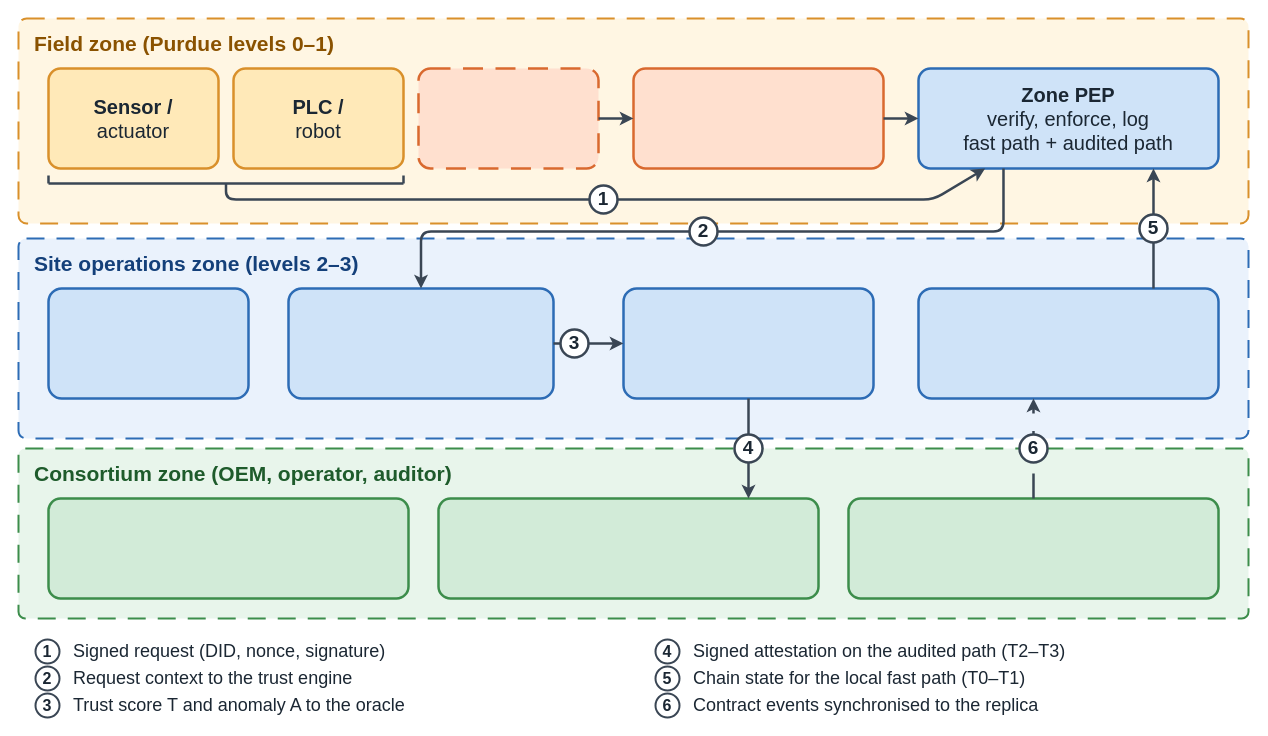
This 1268x736 diagram has some shape labels left out. Here are the shapes that lost their labels. From the top down, the centre of each, then its label:
the point at 508,118: Legacy device (no keys)
the point at 758,118: Protocol gateway identity proxy for legacy devices
the point at 148,343: HMI / engineering workstation
the point at 420,343: Trust engine (PDP) signals P, A, N, R; per-tier policy
the point at 748,343: Trust oracle signs DID, resource, T, A, nonce
the point at 1068,343: Local replica of chain state + decision log
the point at 228,548: IdentityRegistry status FSM, key blacklist, batch revoke / quarantine
the point at 628,548: ZeroTrustAccess tier policy, anomaly gate, strict mode, root anchoring
the point at 1033,548: RevocationGovernance quorum q = ⌊N/2⌋+1; vendor, operator, auditor vote
